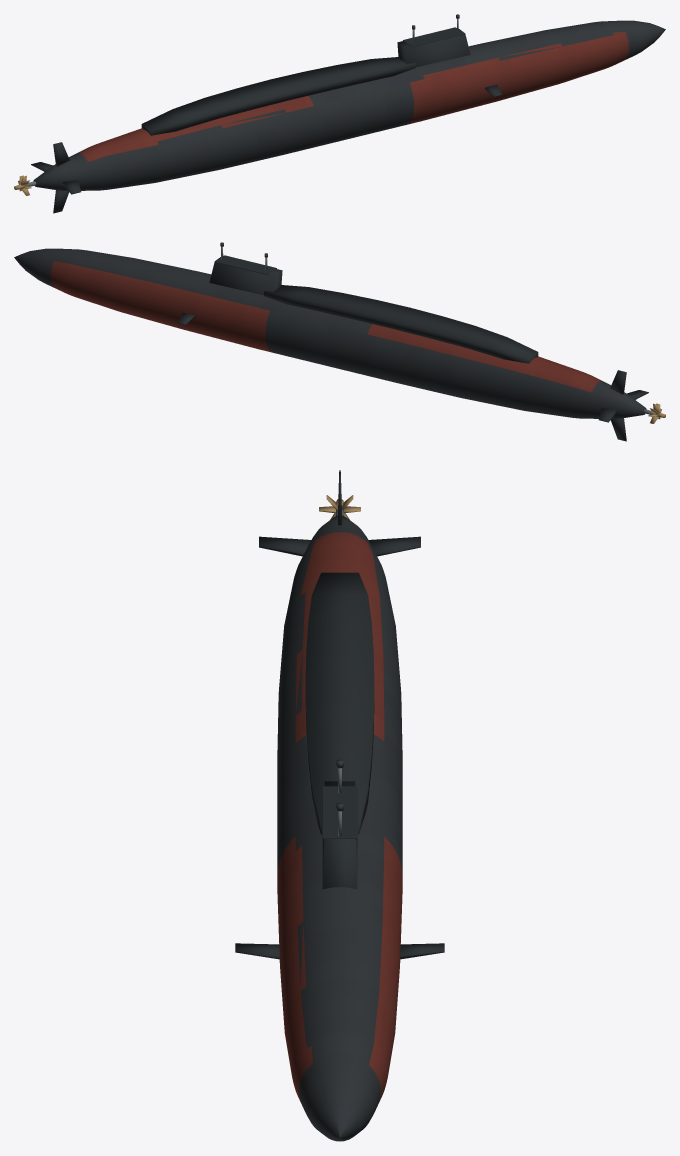
The model's file is US_SSBN_GeorgeWashington_LOD2.fbx.
The picture shows the model from 3 angles, top to bottom: view 1: azimuth 30°, elevation 25°; view 2: azimuth 150°, elevation 25°; view 3: azimuth 270°, elevation 25°; orthographic projection. The views are drawn at different scales.
Parts seen in each view (by area): view 1: US_SSBN_GeorgeWashington_LOD2; view 2: US_SSBN_GeorgeWashington_LOD2; view 3: US_SSBN_GeorgeWashington_LOD2.
Boxes of the visible parts, box(x1,y1,x2,y2) form: US_SSBN_GeorgeWashington_LOD2: box(14, 14, 665, 213); US_SSBN_GeorgeWashington_LOD2: box(14, 242, 665, 441); US_SSBN_GeorgeWashington_LOD2: box(235, 470, 444, 1141).
Size of the model in its own units: 120 by 16.71 by 17.53.
Materials: 6 (1 with a texture image).
